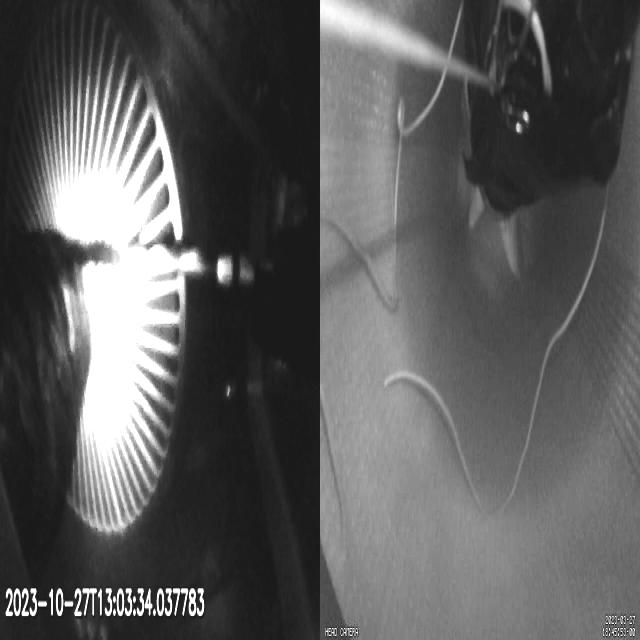white-dots: (216, 251, 273, 288)
